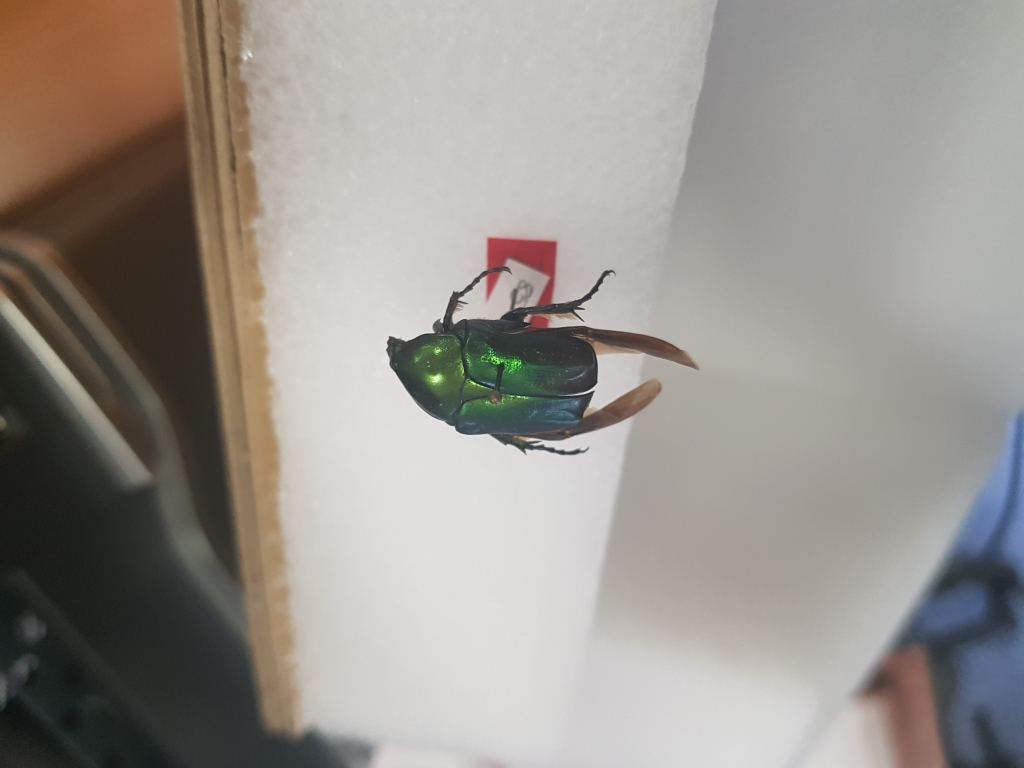Protaetia_besucheti: (366, 254, 709, 453)
